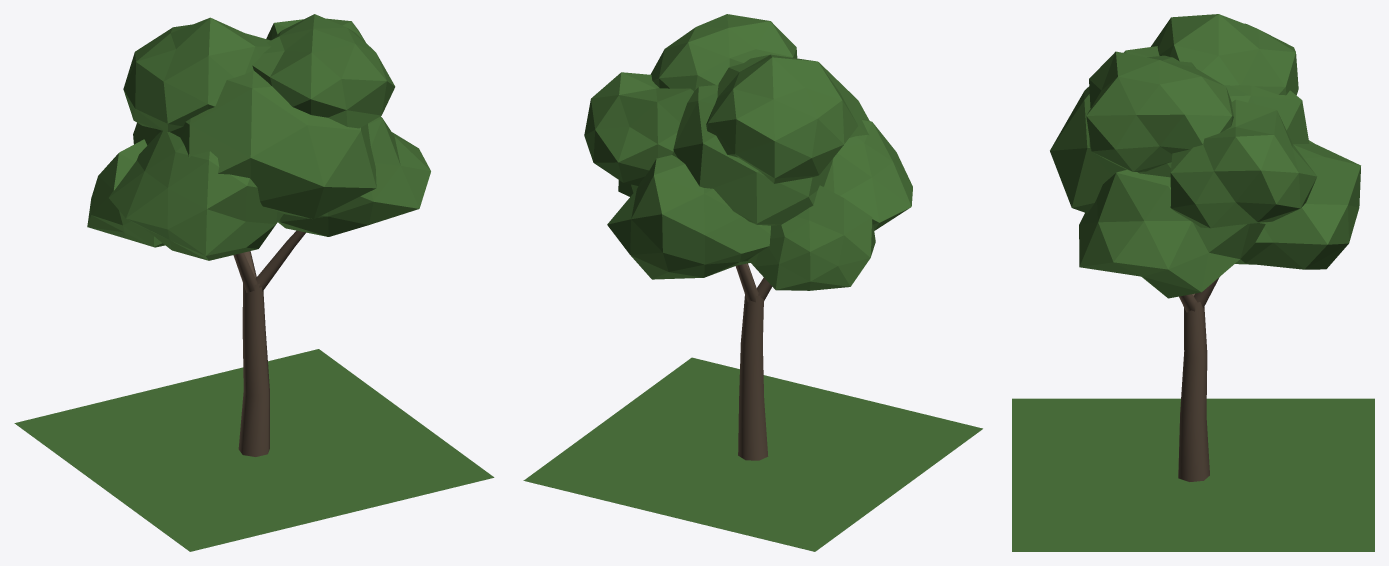
3 renders of one model, left to right at view 1: azimuth 30°, elevation 25°; view 2: azimuth 150°, elevation 25°; view 3: azimuth 270°, elevation 25°, orthographic. The views are drawn at different scales.
Parts seen in each view (by area): view 1: Canopy, Footprint, Trunk, Branches; view 2: Canopy, Footprint, Trunk, Branches; view 3: Canopy, Footprint, Trunk, Branches.
Part boxes in pixels (box(x1,y1,x2,y2)): Canopy: box(87, 14, 430, 260); Footprint: box(14, 349, 494, 551); Trunk: box(238, 283, 269, 456); Branches: box(233, 230, 305, 292); Canopy: box(584, 14, 912, 290); Footprint: box(523, 357, 982, 551); Trunk: box(738, 294, 768, 460); Branches: box(735, 263, 772, 302); Canopy: box(1050, 14, 1360, 298); Footprint: box(1012, 398, 1374, 551); Trunk: box(1178, 302, 1209, 481); Branches: box(1179, 277, 1219, 312).
Bounding box in the file's own units: 4.31 × 5.89 × 4.31.
